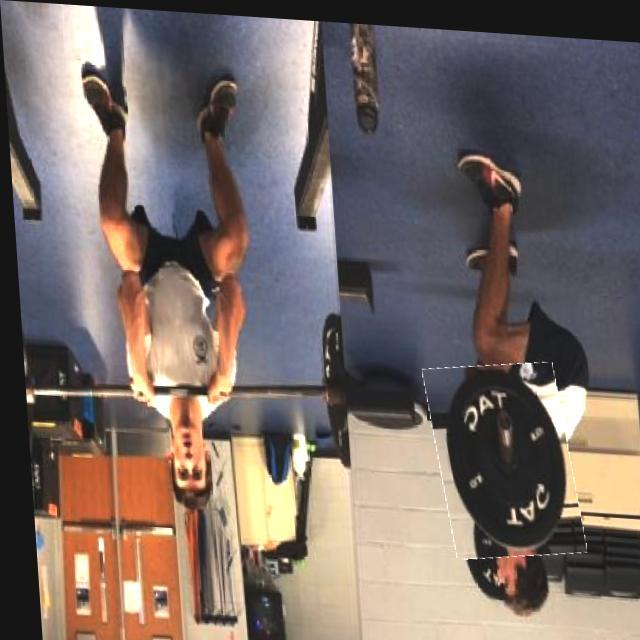barbell: (423, 353, 576, 557)
